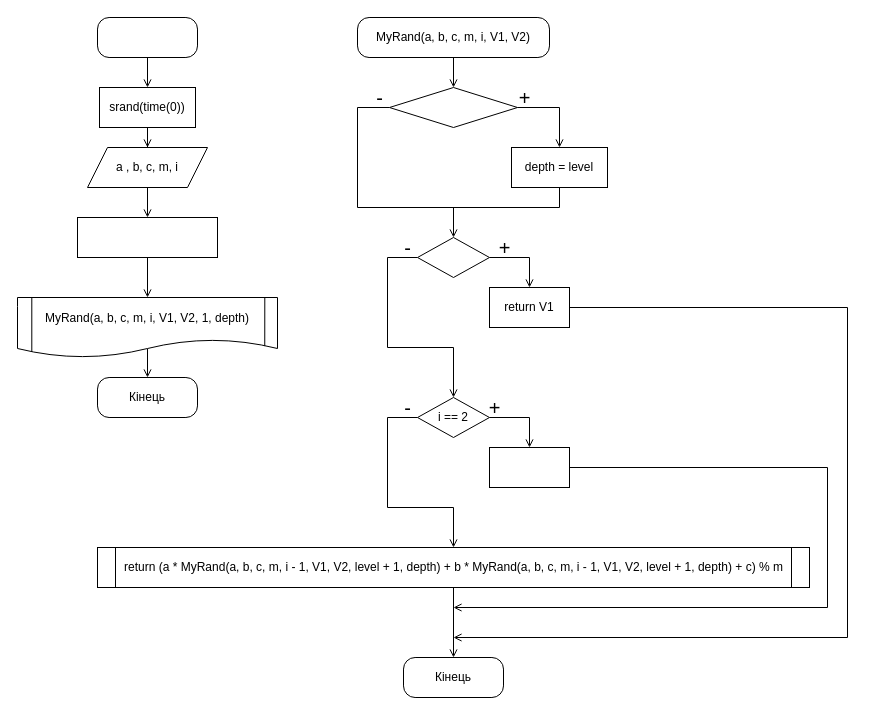
Some shapes in this 873 by 715 pixel diagram are drawn without their labels. Here are the shapes that lost their labels. From the top down, the centre of each, then its label:
At point 147,37: "Початок".
At point 453,107: "level > depth".
At point 147,237: "V1 = rand(), V2 = rand()".
At point 453,257: "i == 1".
At point 529,467: "return V2".
